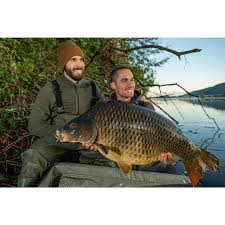carp: (52, 99, 221, 188)
